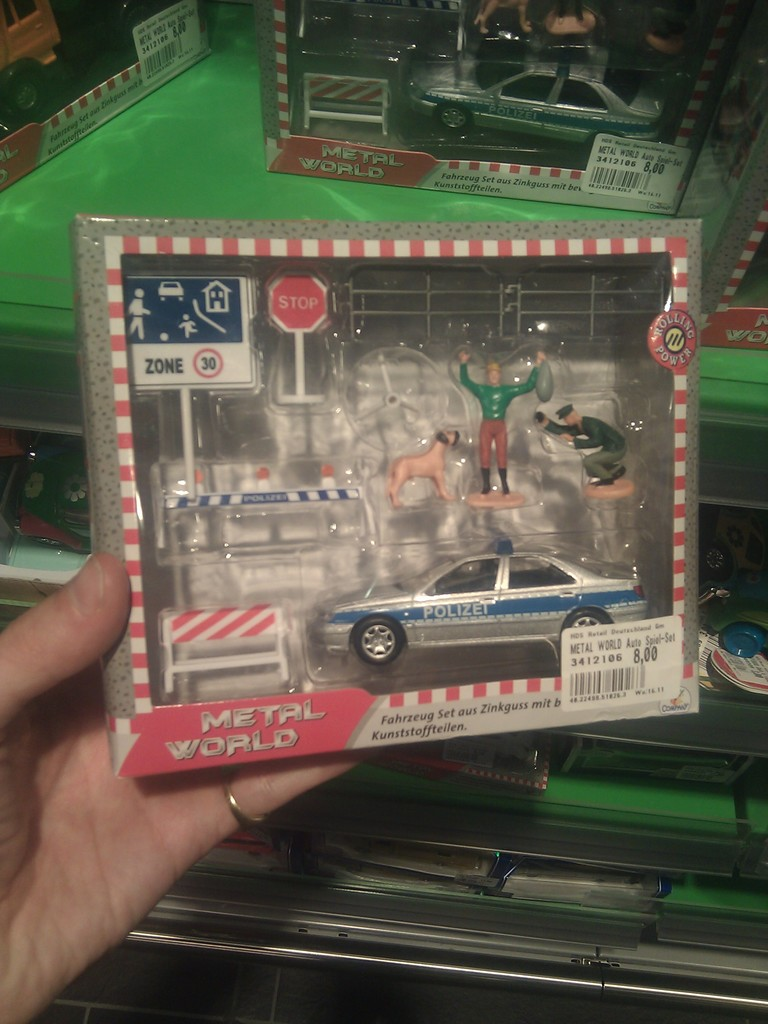Car: (320, 535, 667, 670)
